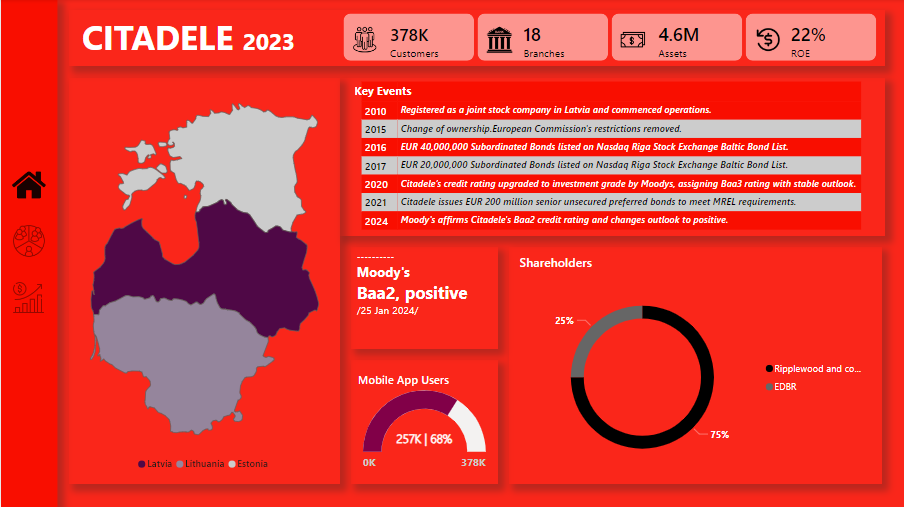

The page's visual inventory and layout, read from the dashboard file:
{"tool":"powerbi","page":{"name":"Home","canvas":[1280,720],"ordinal":0},"visuals":[{"type":"shape","box":[480,112,773,224],"z":0},{"type":"textbox","box":[96,16,1156,80],"z":1000},{"type":"shapeMap","fields":{"Category":["Details.Country"],"Value":["Sum(Assets2023Country. Total assets                      )"],"Series":["Details.Country"]},"box":[96,112,384,576],"z":2000},{"type":"cardVisual","fields":{"Data":["Sum(Details.Active customers)","Sum(Details.Branches)","Sum(Assets2023Country. Total assets                      )","Sum.CY_ROE"]},"box":[480,16,768,77],"z":3000},{"type":"pivotTable","title":"Main Events","fields":{"Values":["Min(Timeline.Highlights                                                      )"],"Rows":["Timeline. Year "]},"box":[496,112,752,240],"z":4000},{"type":"shape","box":[0,0,80,720],"z":5000},{"type":"donutChart","title":"Shareholders","fields":{"Category":["Shareholders.Shareholders"],"Y":["Sum(Shareholders.%)"]},"box":[720,352,528,336],"z":6000},{"type":"gauge","title":"Mobile App Users","fields":{"Y":["KPI.CY_Mobile_App"]},"box":[496,512,208,176],"z":7000},{"type":"textbox","box":[496,352,208,144],"z":8000},{"type":"textbox","box":[496,112,128,48],"z":9000},{"type":"actionButton","box":[16,240,48,48],"z":10000,"group":"g1"},{"type":"actionButton","box":[16,400,47,47],"z":11000,"group":"g1"},{"type":"actionButton","box":[16,320,48,48],"z":12000,"group":"g1"},{"type":"group","id":"g1","title":"Group 1","box":[16,240,48,207],"z":12001}]}

Visuals, with their boxes in screenshot pixels (x1, y1, x2, y2), scaled from the page's 1280x720 canvas onto the 904x507 screenshot:
shape: crop(339, 79, 885, 237)
textbox: crop(68, 11, 884, 68)
shapeMap - Details.Country x Sum(Assets2023Country. Total assets                      ): crop(68, 79, 339, 484)
cardVisual - Sum(Details.Active customers) x Sum(Details.Branches): crop(339, 11, 881, 65)
"Main Events" pivotTable: crop(350, 79, 881, 248)
shape: crop(0, 0, 56, 506)
"Shareholders" donutChart: crop(509, 248, 881, 484)
"Mobile App Users" gauge: crop(350, 361, 497, 484)
textbox: crop(350, 248, 497, 349)
textbox: crop(350, 79, 441, 113)
actionButton: crop(11, 169, 45, 203)
actionButton: crop(11, 282, 44, 315)
actionButton: crop(11, 225, 45, 259)
"Group 1" group: crop(11, 169, 45, 315)
